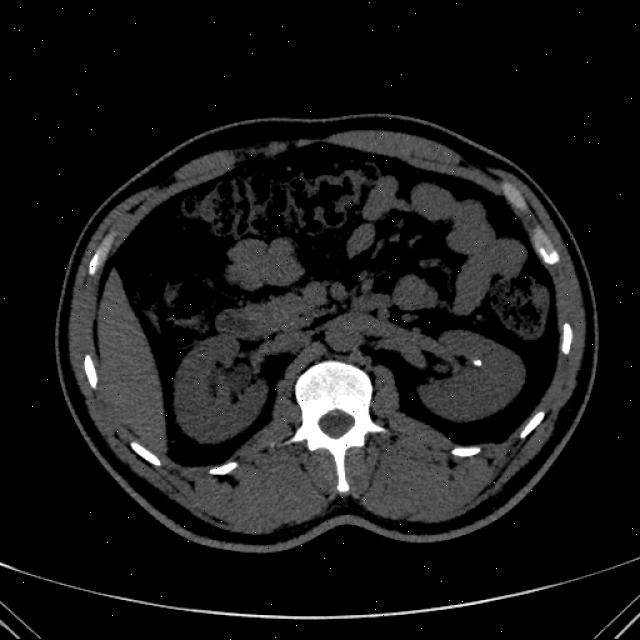kidneystone: (471, 359, 481, 367)
